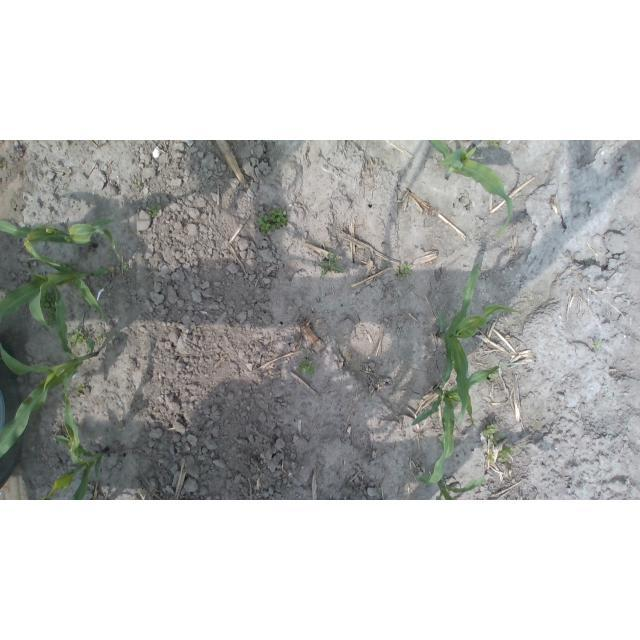Maize: (0, 267, 96, 460), (436, 263, 521, 431), (412, 363, 512, 485), (1, 235, 110, 335), (429, 140, 513, 236), (41, 389, 108, 500), (0, 217, 126, 260), (435, 478, 487, 500)
Weeds: (257, 206, 288, 237), (316, 252, 344, 277), (42, 289, 57, 328), (68, 328, 89, 349), (481, 424, 499, 447), (497, 445, 515, 463), (300, 359, 317, 377), (396, 263, 413, 277), (147, 203, 161, 217), (484, 140, 501, 148), (96, 332, 108, 342), (592, 340, 602, 349), (122, 260, 129, 272), (76, 384, 85, 393), (488, 372, 497, 381), (136, 180, 142, 188)
